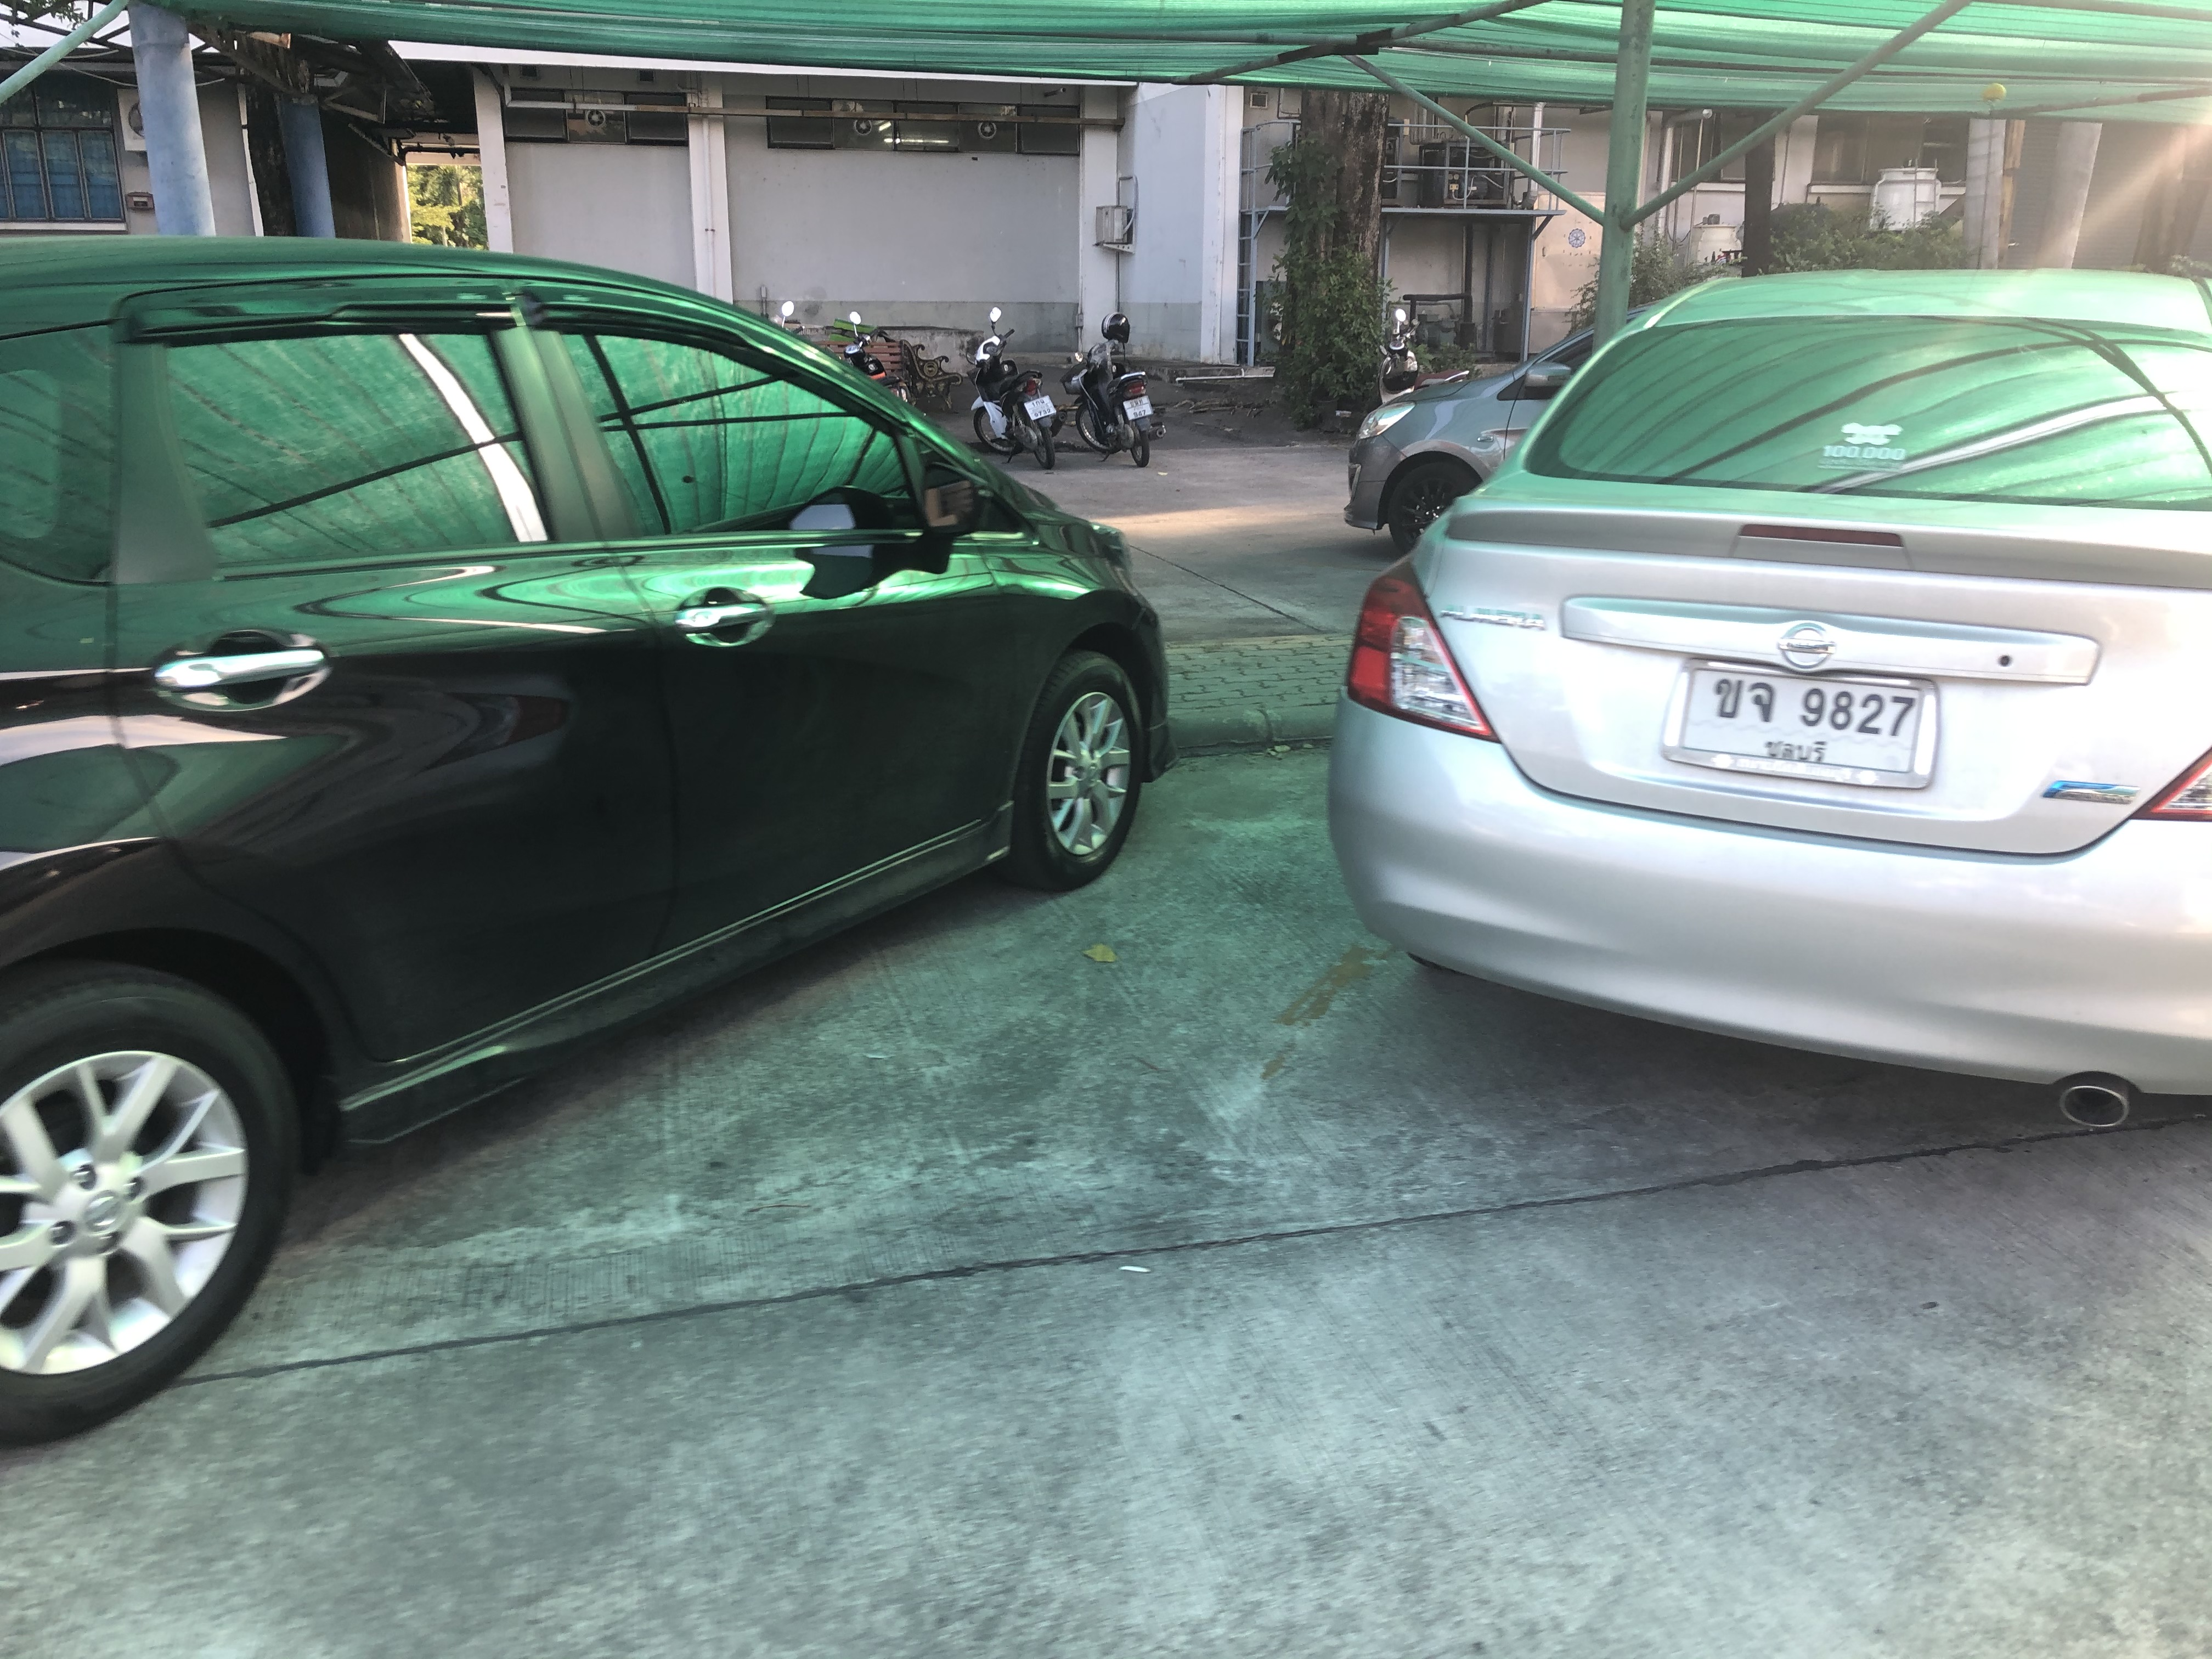in: (1684, 669, 1925, 774)
out: (1662, 655, 1940, 795)
